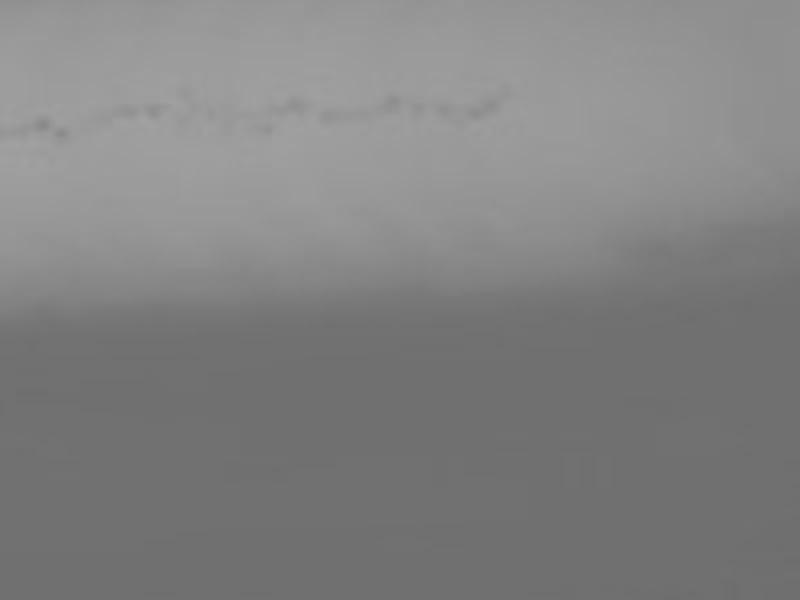defect: (460, 96, 501, 123), (373, 95, 402, 117), (287, 90, 313, 114), (4, 120, 31, 142), (139, 100, 165, 121), (319, 107, 345, 128), (263, 96, 286, 117), (213, 116, 236, 137), (254, 120, 276, 139), (175, 80, 194, 102), (111, 103, 135, 120), (31, 112, 53, 130), (492, 81, 512, 100), (407, 100, 425, 121), (54, 124, 73, 141), (39, 144, 54, 165), (437, 97, 452, 116), (206, 105, 218, 121)
